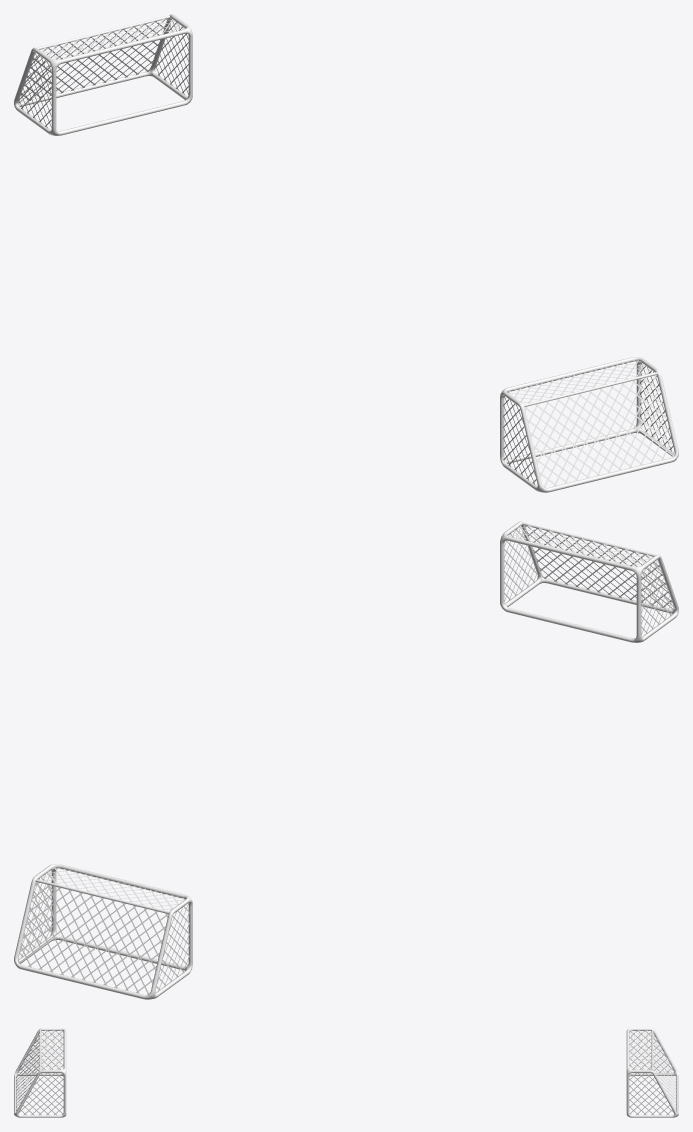
File: PennyBall_Kale.fbx
3 renders of one model, top to bottom at view 1: azimuth 30°, elevation 25°; view 2: azimuth 150°, elevation 25°; view 3: azimuth 270°, elevation 25°, orthographic. The views are drawn at different scales.
Parts seen in each view (by area): view 1: File_P, Direk_P, Direk_P.001, File_P.001; view 2: File_P.001, Direk_P.001, Direk_P, File_P; view 3: File_P, File_P.001, Direk_P, Direk_P.001.
Boxes of the visible parts, bbox=[...] form: File_P: bbox=[503, 360, 674, 488]; Direk_P: bbox=[500, 357, 678, 492]; Direk_P.001: bbox=[14, 14, 192, 135]; File_P.001: bbox=[17, 18, 188, 127]; File_P.001: bbox=[18, 867, 189, 995]; Direk_P.001: bbox=[14, 864, 192, 999]; Direk_P: bbox=[500, 521, 678, 642]; File_P: bbox=[504, 525, 675, 634]; File_P: bbox=[16, 1030, 63, 1115]; File_P.001: bbox=[629, 1030, 676, 1115]; Direk_P: bbox=[14, 1028, 66, 1117]; Direk_P.001: bbox=[626, 1028, 678, 1117].
Size of the model in its own units: 18.08 by 9.3 by 118.
2 materials, 1 textured.
